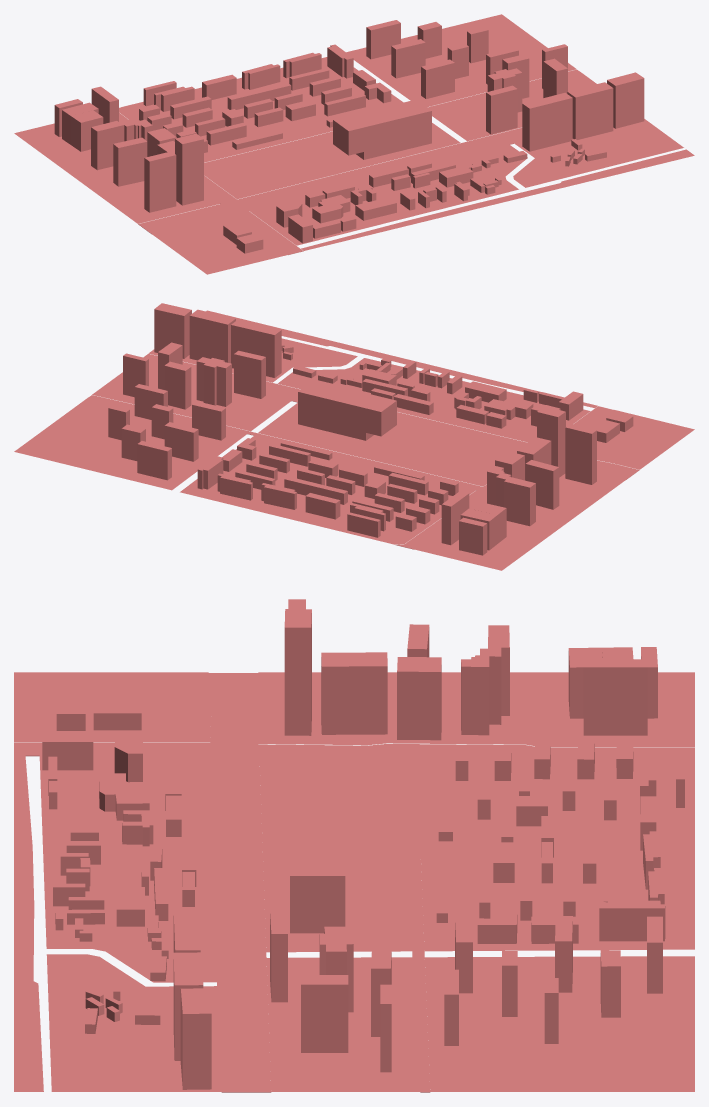
File: env.gltf
3 renders of one model, top to bottom at view 1: azimuth 30°, elevation 25°; view 2: azimuth 150°, elevation 25°; view 3: azimuth 270°, elevation 25°, orthographic. The views are drawn at different scales.
Visible parts, largest first — view 1: Node; view 2: Node; view 3: Node.
Part boxes in pixels (x1,y1,x2,y2): Node: (14,14,694,274); Node: (14,303,694,570); Node: (14,599,694,1092).
Size of the model in its own units: 949569 by 114605 by 651161.
